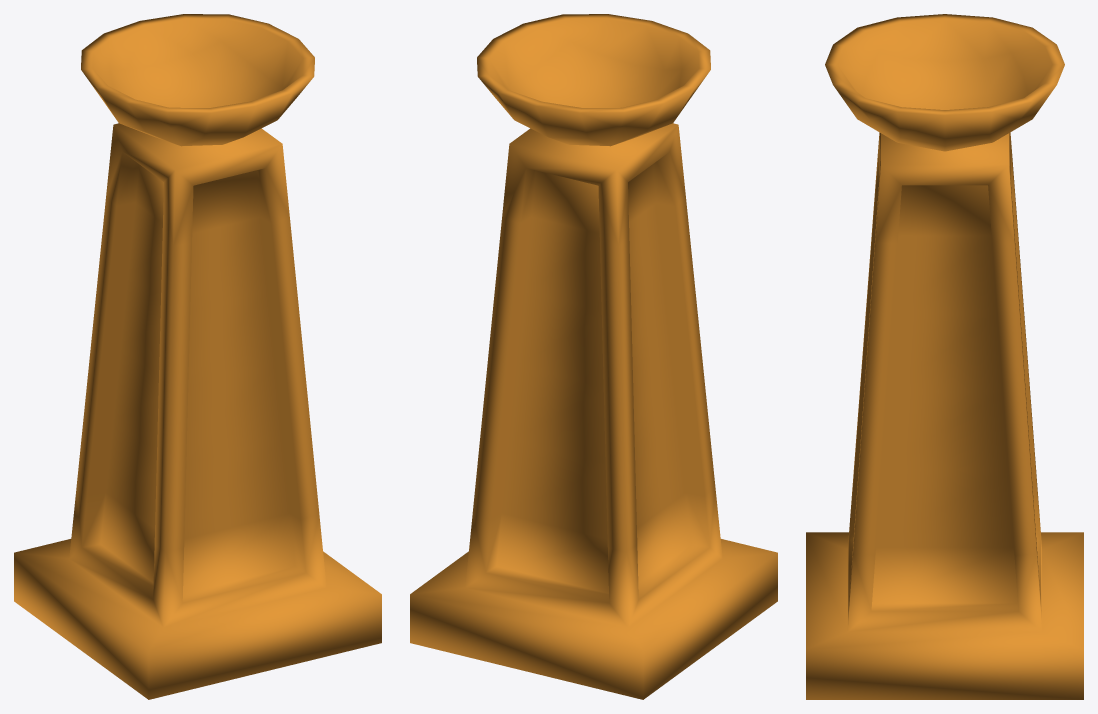
The model's file is Torch_Low.FBX.
3 renders of one model, left to right at view 1: azimuth 30°, elevation 25°; view 2: azimuth 150°, elevation 25°; view 3: azimuth 270°, elevation 25°, orthographic. The views are drawn at different scales.
Parts seen in each view (by area): view 1: Antorcha_01; view 2: Antorcha_01; view 3: Antorcha_01.
Boxes of the visible parts, x1=… form: Antorcha_01: x1=14, y1=14, x2=381, y2=699; Antorcha_01: x1=410, y1=14, x2=777, y2=699; Antorcha_01: x1=806, y1=14, x2=1083, y2=699.
Bounding box in the file's own units: 119 × 272 × 119.
